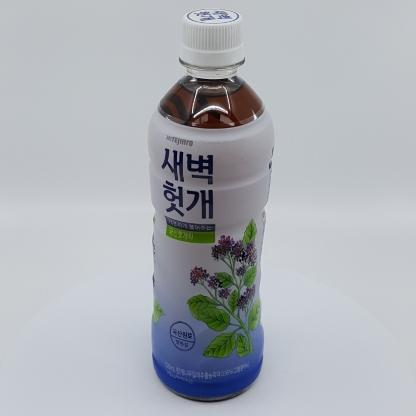---------520ML: (147, 8, 275, 401)
